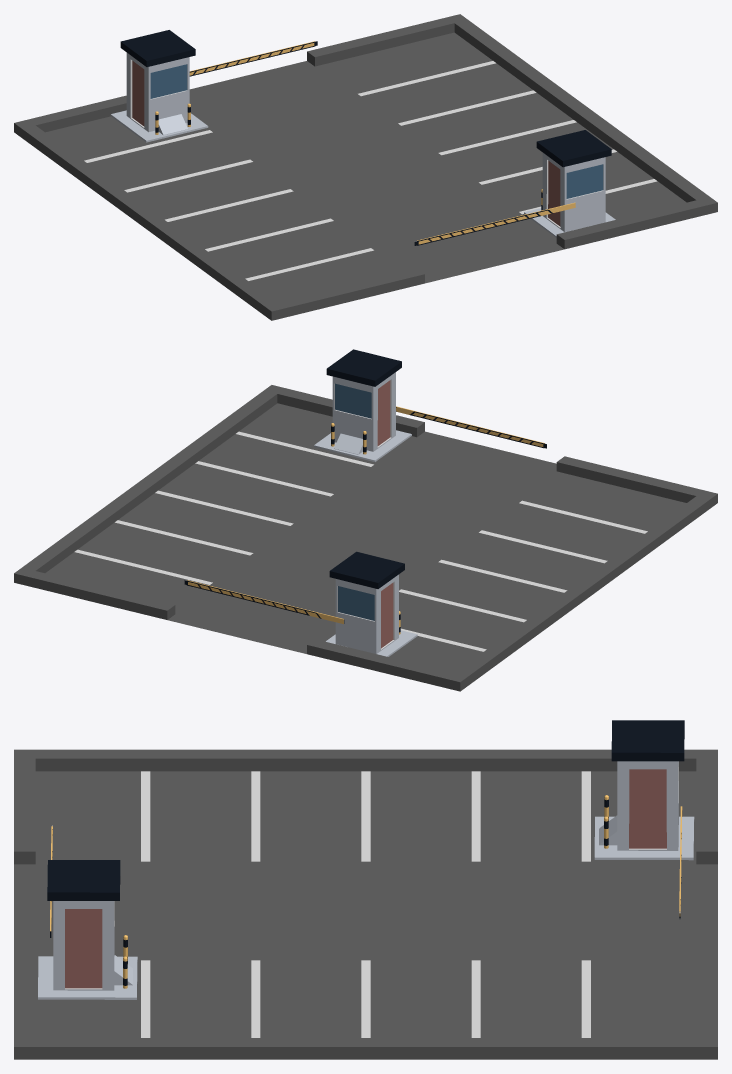
Rendered from infrastructure-building-parking-lot.fbx.
3 renders of one model, top to bottom at view 1: azimuth 30°, elevation 25°; view 2: azimuth 150°, elevation 25°; view 3: azimuth 270°, elevation 25°, orthographic. The views are drawn at different scales.
Visible parts, largest first — view 1: infrastructure-building-parking-lot, Toll Booth, Toll Booth.001, Plane.003, Plane.002; view 2: infrastructure-building-parking-lot, Toll Booth.001, Toll Booth, Plane.002, Plane.003; view 3: infrastructure-building-parking-lot, Toll Booth.001, Toll Booth.
Part boxes in pixels (x1,y1,x2,y2): infrastructure-building-parking-lot: (14, 14, 717, 320); Toll Booth: (110, 30, 208, 142); Toll Booth.001: (524, 130, 615, 237); Plane.003: (414, 202, 575, 245); Plane.002: (189, 41, 317, 76); infrastructure-building-parking-lot: (14, 385, 717, 691); Toll Booth.001: (314, 349, 411, 461); Toll Booth: (326, 551, 417, 656); Plane.002: (184, 580, 344, 624); Plane.003: (396, 406, 546, 448); infrastructure-building-parking-lot: (14, 749, 717, 1059); Toll Booth.001: (38, 860, 137, 999); Toll Booth: (594, 720, 694, 860).
Size of the model in its own units: 16.75 by 2.75 by 16.75.
